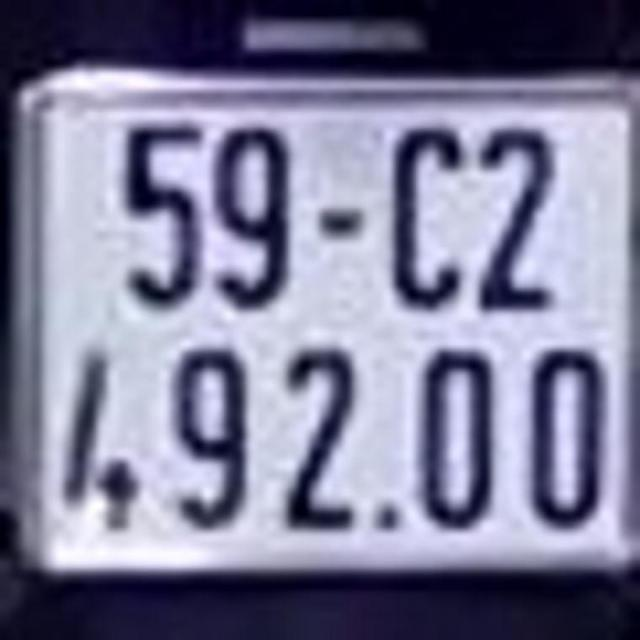0: (532, 346, 602, 521), (423, 350, 492, 524)
2: (480, 129, 557, 306), (286, 351, 354, 530)
4: (62, 354, 142, 535)
5: (126, 124, 202, 300)
9: (171, 346, 247, 528), (213, 132, 286, 308)
C: (393, 125, 463, 308)
